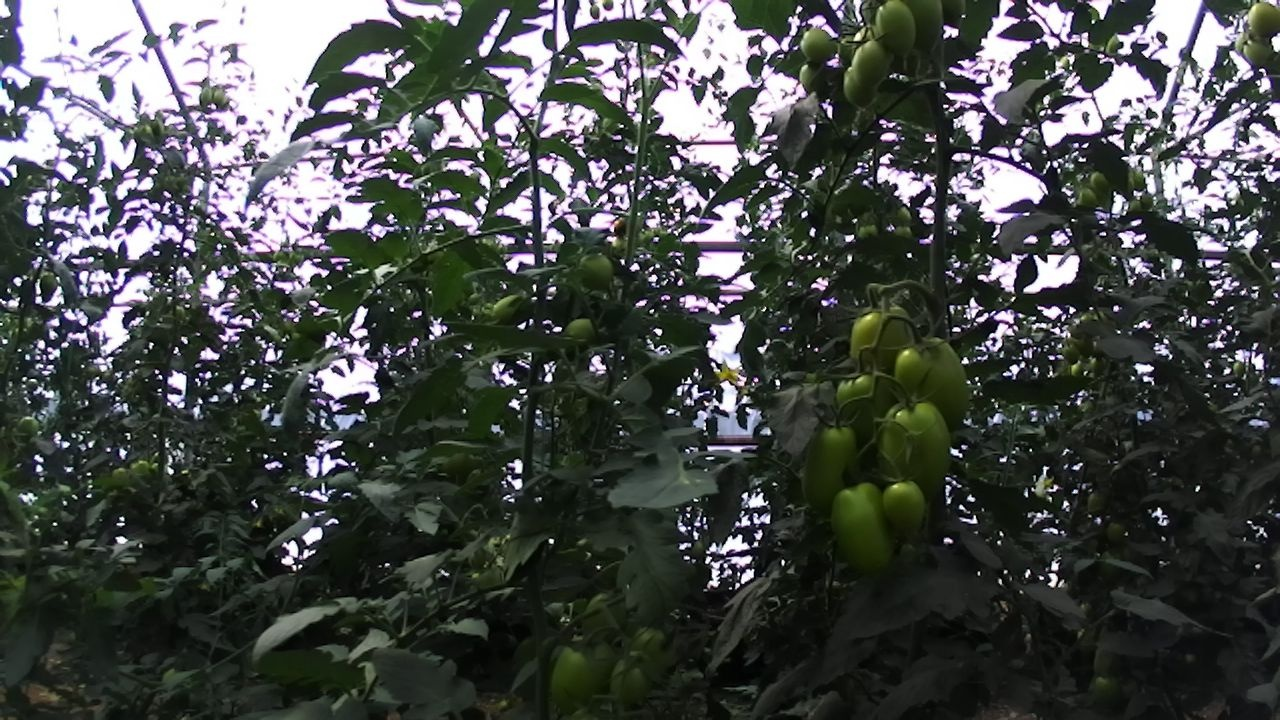tomato: (867, 383, 968, 515), (885, 321, 989, 444), (822, 468, 922, 588), (788, 407, 882, 528), (840, 282, 934, 394), (820, 358, 911, 453), (539, 631, 620, 720), (873, 465, 945, 549), (620, 610, 684, 686), (567, 583, 633, 651), (603, 642, 662, 715), (843, 32, 904, 97), (869, 0, 927, 67), (894, 0, 955, 60), (484, 282, 543, 336), (571, 242, 624, 300), (836, 59, 888, 117), (790, 54, 843, 105), (792, 19, 846, 68), (554, 309, 611, 355), (1082, 667, 1127, 712), (1235, 30, 1279, 72), (1243, 0, 1280, 44), (15, 409, 49, 447), (1081, 484, 1116, 520), (123, 448, 157, 485), (1070, 184, 1104, 216), (1082, 166, 1118, 196), (36, 269, 61, 305), (1100, 516, 1130, 546), (1058, 340, 1085, 366), (1226, 356, 1252, 382), (685, 536, 711, 562), (1066, 357, 1091, 381), (195, 83, 215, 112), (1136, 188, 1159, 213), (206, 84, 229, 107)
